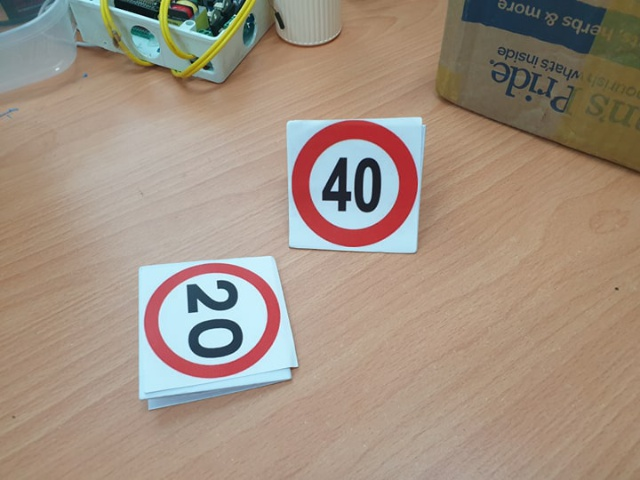Limit 20: (142, 264, 285, 376)
Limit 40: (287, 123, 419, 248)
